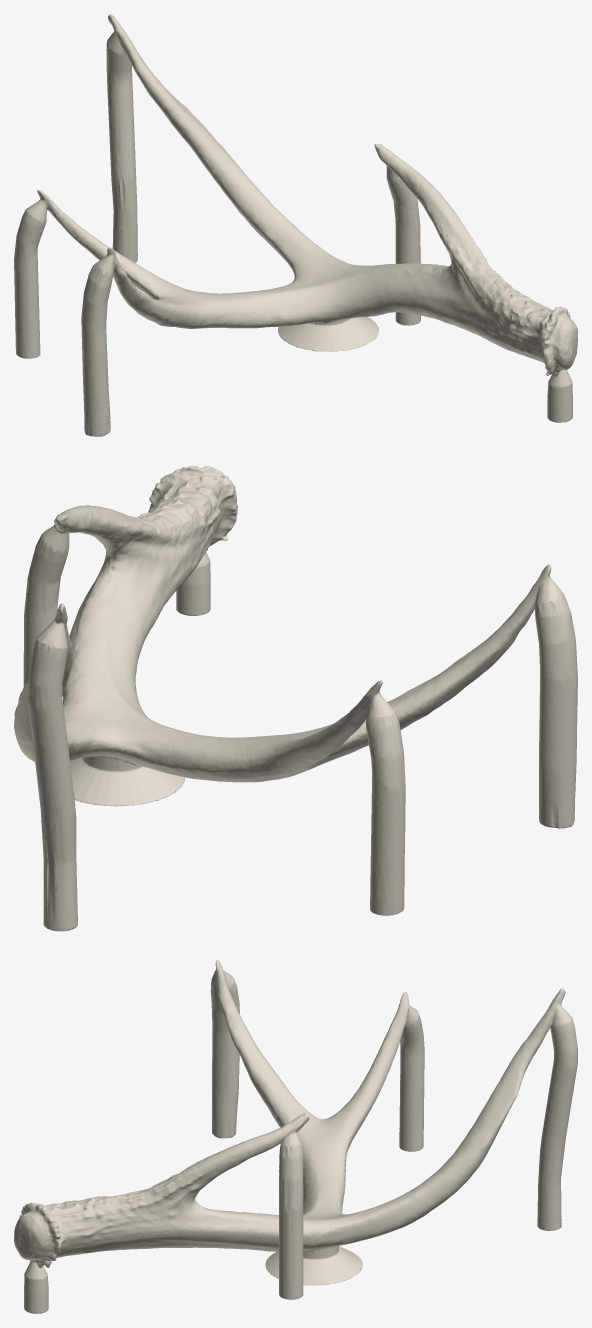
Rendered from plakingforwebsite-web.glb.
3 views of the same model, one above another, from view 1: azimuth 30°, elevation 25°; view 2: azimuth 150°, elevation 25°; view 3: azimuth 270°, elevation 25° (orthographic). The views are drawn at different scales.
Visible parts, largest first — view 1: The_King_-_Right; view 2: The_King_-_Right; view 3: The_King_-_Right.
Boxes of the visible parts, x1=… form: The_King_-_Right: x1=14, y1=14, x2=577, y2=436; The_King_-_Right: x1=14, y1=465, x2=577, y2=931; The_King_-_Right: x1=14, y1=960, x2=577, y2=1313.
Size of the model in its own units: 0.2714 by 0.1598 by 0.344.
